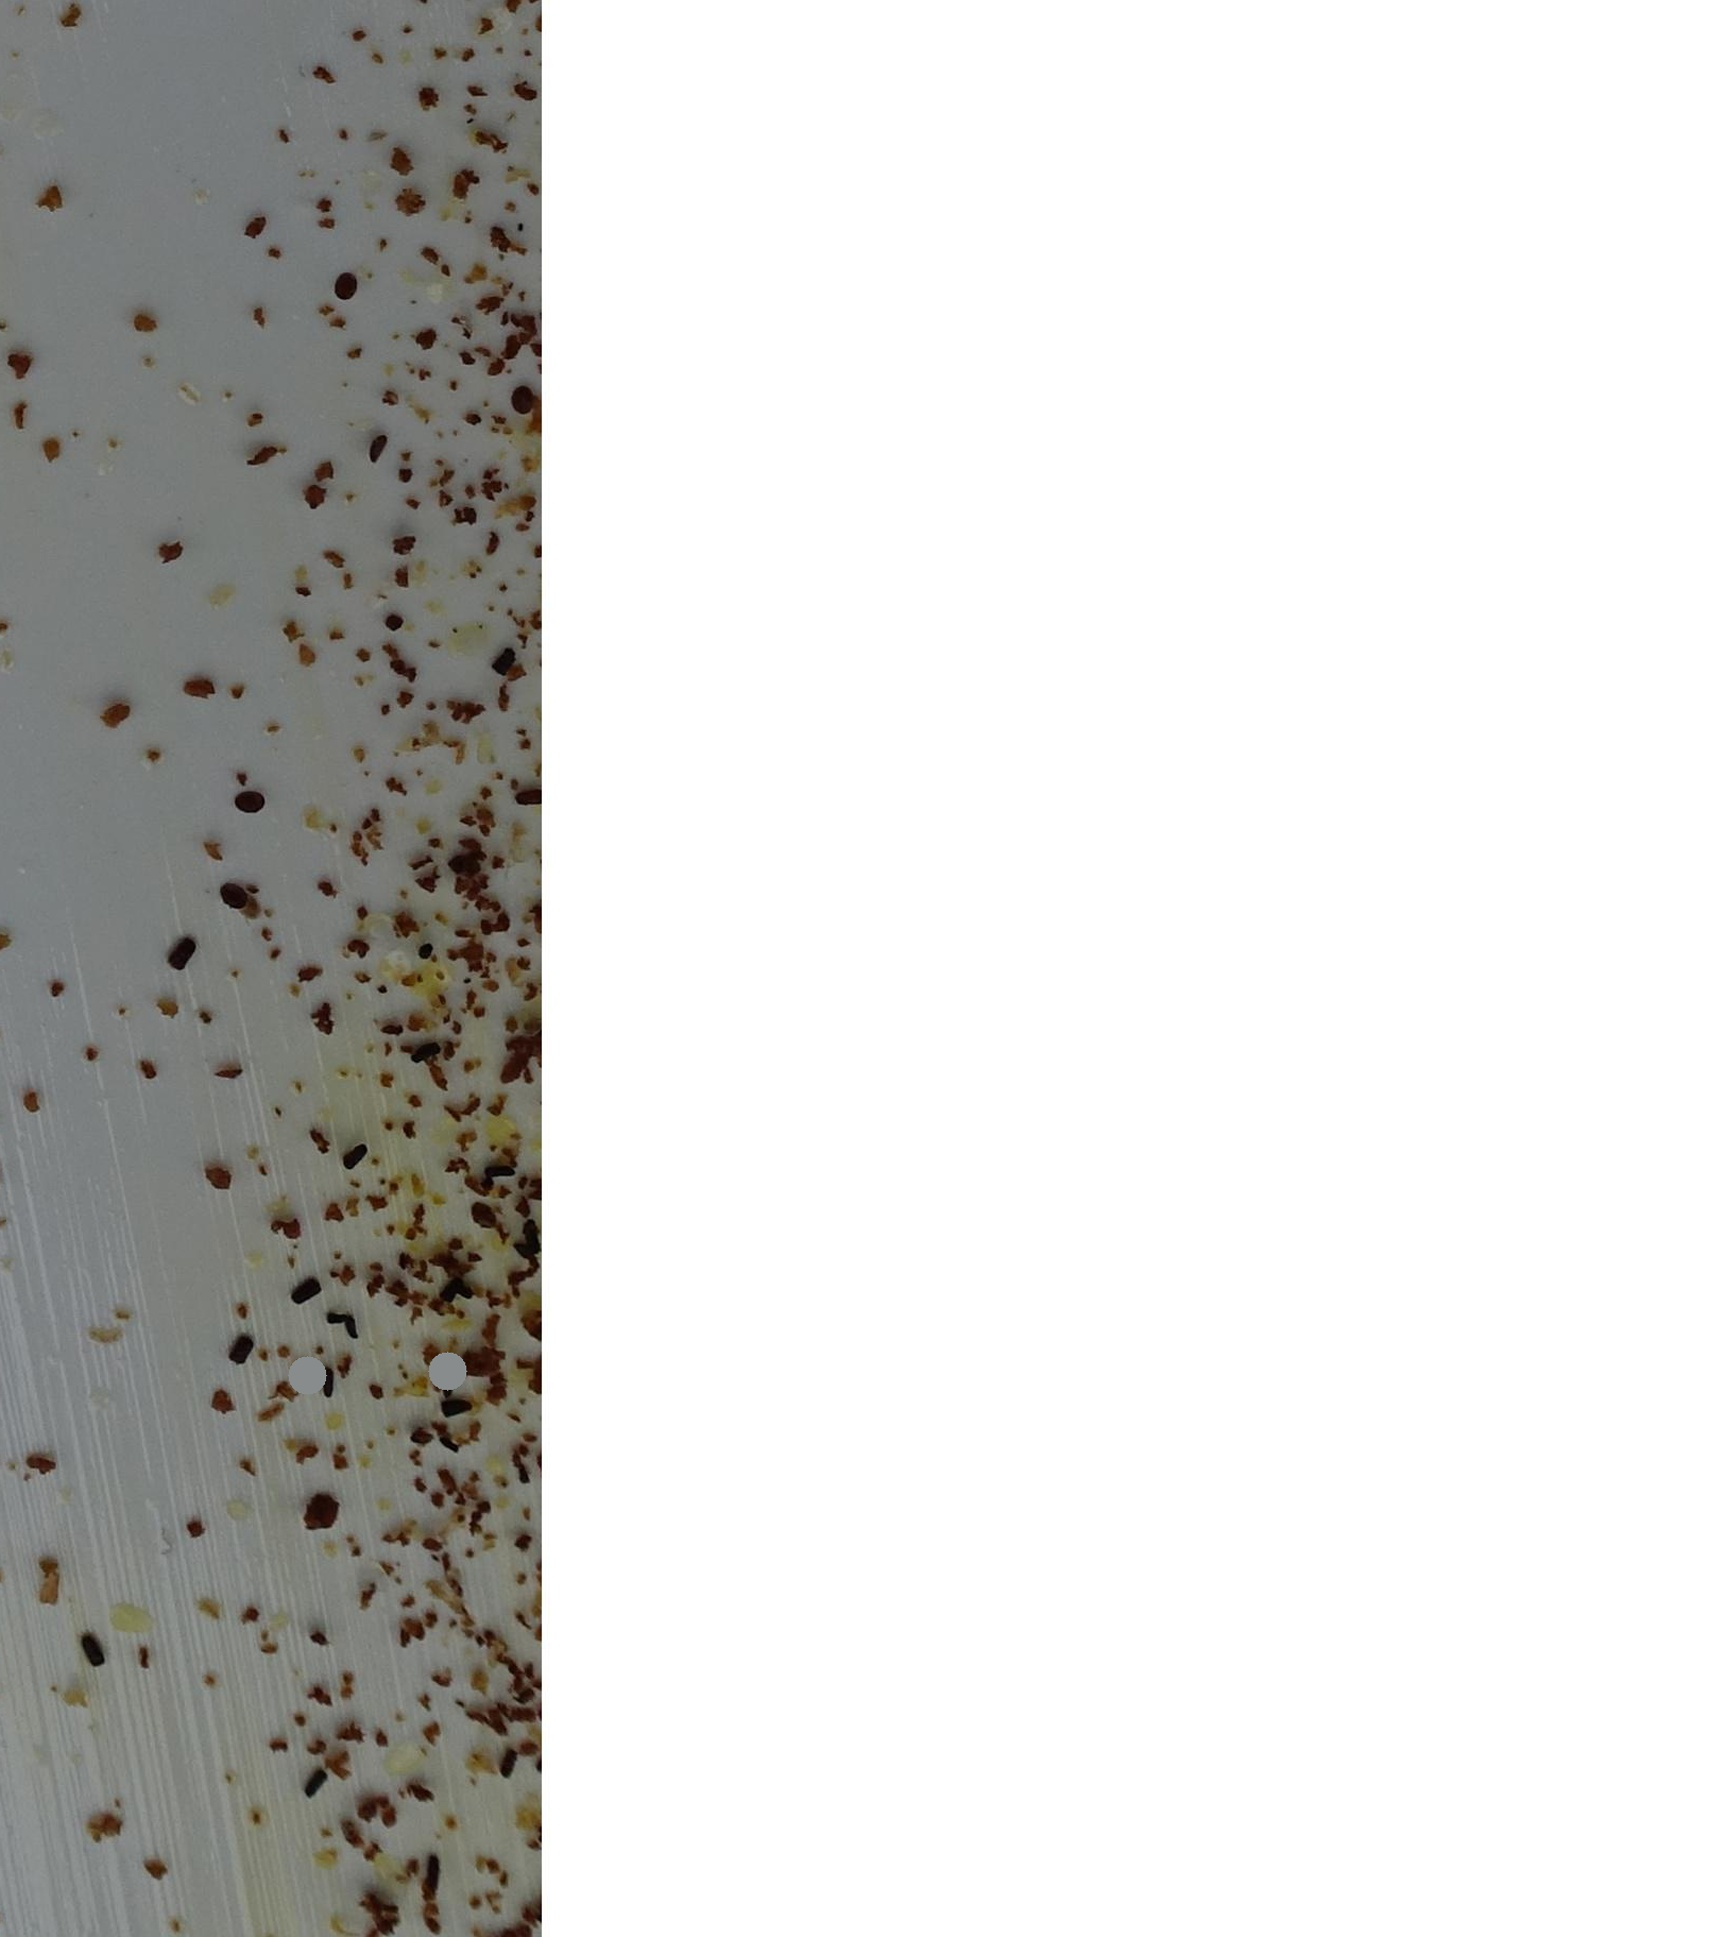Varroa: (474, 1199, 499, 1225), (239, 786, 263, 810), (519, 382, 542, 404), (223, 885, 238, 899), (334, 278, 347, 291)
